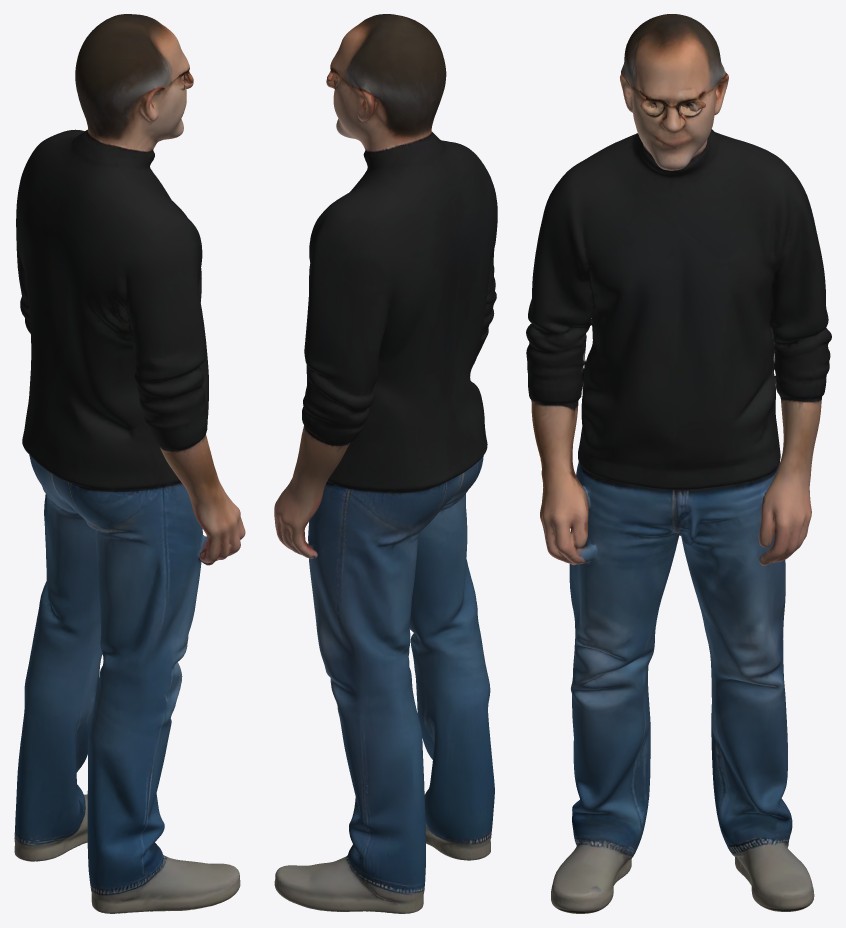
File: steve-jobs.glb
3 views of the same model, side by side, from view 1: azimuth 30°, elevation 25°; view 2: azimuth 150°, elevation 25°; view 3: azimuth 270°, elevation 25° (orthographic). The views are drawn at different scales.
Visible parts, largest first — view 1: tripo_node_8ac8c94b-70a8-4dca-b50c-1b16141cf24b; view 2: tripo_node_8ac8c94b-70a8-4dca-b50c-1b16141cf24b; view 3: tripo_node_8ac8c94b-70a8-4dca-b50c-1b16141cf24b.
Part boxes in pixels (box(x1,y1,x2,y2)): tripo_node_8ac8c94b-70a8-4dca-b50c-1b16141cf24b: box(14, 14, 245, 913); tripo_node_8ac8c94b-70a8-4dca-b50c-1b16141cf24b: box(274, 14, 497, 913); tripo_node_8ac8c94b-70a8-4dca-b50c-1b16141cf24b: box(526, 14, 831, 913).
Size of the model in its own units: 0.1805 by 1 by 0.3179.
1 material, 1 textured.
